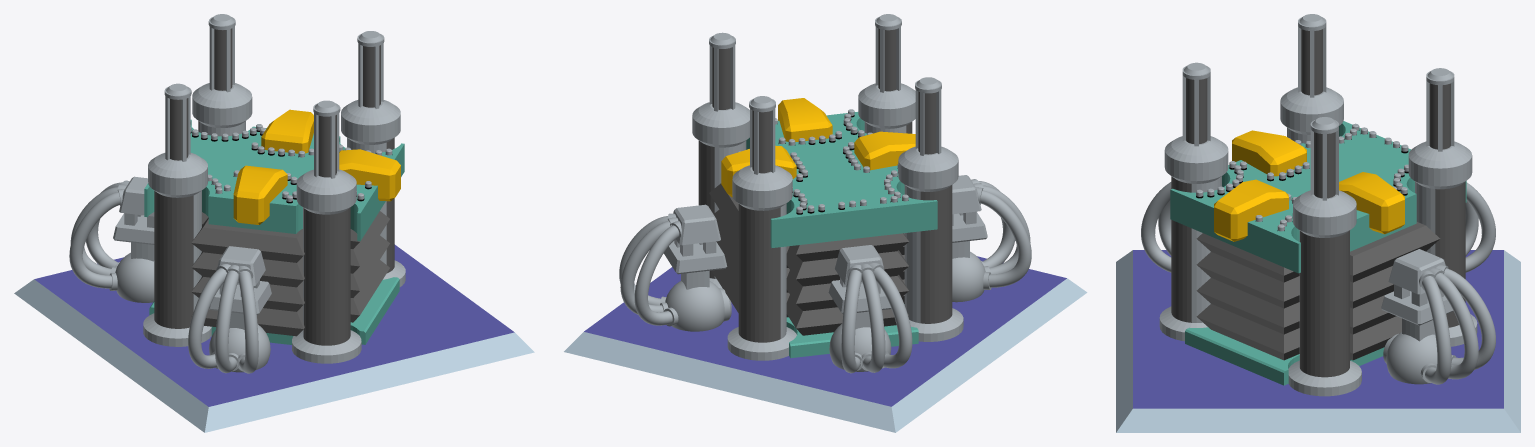
Rendered from 73_Haarvester_FOMO9.fbx.
The picture shows the model from 3 angles, left to right: view 1: azimuth 30°, elevation 25°; view 2: azimuth 150°, elevation 25°; view 3: azimuth 270°, elevation 25°; orthographic projection. The views are drawn at different scales.
Visible parts, largest first — view 1: foundation9, polySurface58, polySurface57, pCube121, pCylinder104 (×2), pCube122 (×2), polySurface66, pCube120, pCylinder103 (×2), pCube142, pCylinder139 (×2), pCube143 (+8 smaller); view 2: foundation9, polySurface58, polySurface57, pCube120, pCube122 (×3), pCylinder104 (×3), pCylinder139 (×3), pCylinder103 (×3), pSphere59, pCube121, polySurface66, pCylinder193 (+9 smaller); view 3: foundation9, polySurface58, polySurface57, pCube120, pCube121, pCylinder139 (×2), pCylinder104 (×2), polySurface62, pCylinder103 (×3), pCube143, polySurface66, pSphere59 (+7 smaller).
Part boxes in pixels (x1,y1,x2,y2): foundation9: [14, 244, 534, 432]; polySurface58: [148, 83, 400, 345]; polySurface57: [144, 119, 404, 241]; pCube121: [191, 217, 304, 336]; pCylinder104 (×2): [69, 189, 258, 373]; pCube122 (×2): [113, 176, 271, 315]; polySurface66: [143, 260, 405, 363]; pCube120: [202, 211, 389, 322]; pCylinder103 (×2): [70, 184, 240, 373]; pCube142: [233, 165, 287, 224]; pCylinder139 (×2): [86, 180, 230, 368]; pCube143: [339, 149, 400, 201]; foundation9: [564, 256, 1087, 432]; polySurface58: [692, 83, 958, 342]; polySurface57: [746, 112, 937, 247]; pCube120: [786, 233, 908, 335]; pCube122 (×3): [663, 175, 987, 314]; pCylinder104 (×3): [634, 179, 1015, 368]; pCylinder139 (×3): [619, 187, 1031, 373]; pCylinder103 (×3): [620, 183, 1030, 372]; pSphere59: [665, 270, 731, 331]; pCube121: [709, 183, 904, 317]; polySurface66: [709, 278, 963, 360]; pCylinder193: [915, 77, 941, 155]; foundation9: [1116, 250, 1520, 432]; polySurface58: [1164, 87, 1472, 377]; polySurface57: [1170, 121, 1466, 273]; pCube120: [1196, 233, 1299, 360]; pCube121: [1350, 222, 1440, 360]; pCylinder139 (×2): [1419, 182, 1495, 384]; pCylinder104 (×2): [1141, 182, 1495, 369]; polySurface62: [1185, 327, 1384, 385]; pCylinder103 (×3): [1158, 201, 1478, 379]; pCube143: [1214, 179, 1288, 241]; polySurface66: [1159, 306, 1477, 396]; pSphere59: [1383, 318, 1437, 384].
Size of the model in its own units: 2 by 1.52 by 2.
